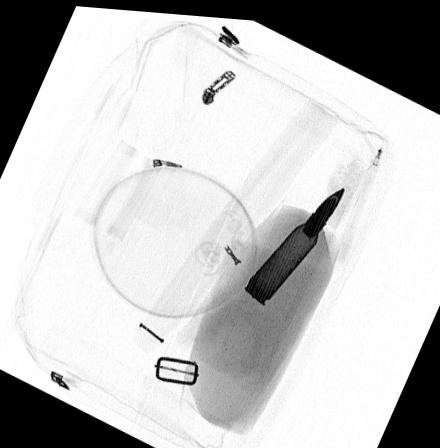Bullet: (244, 180, 345, 303)
